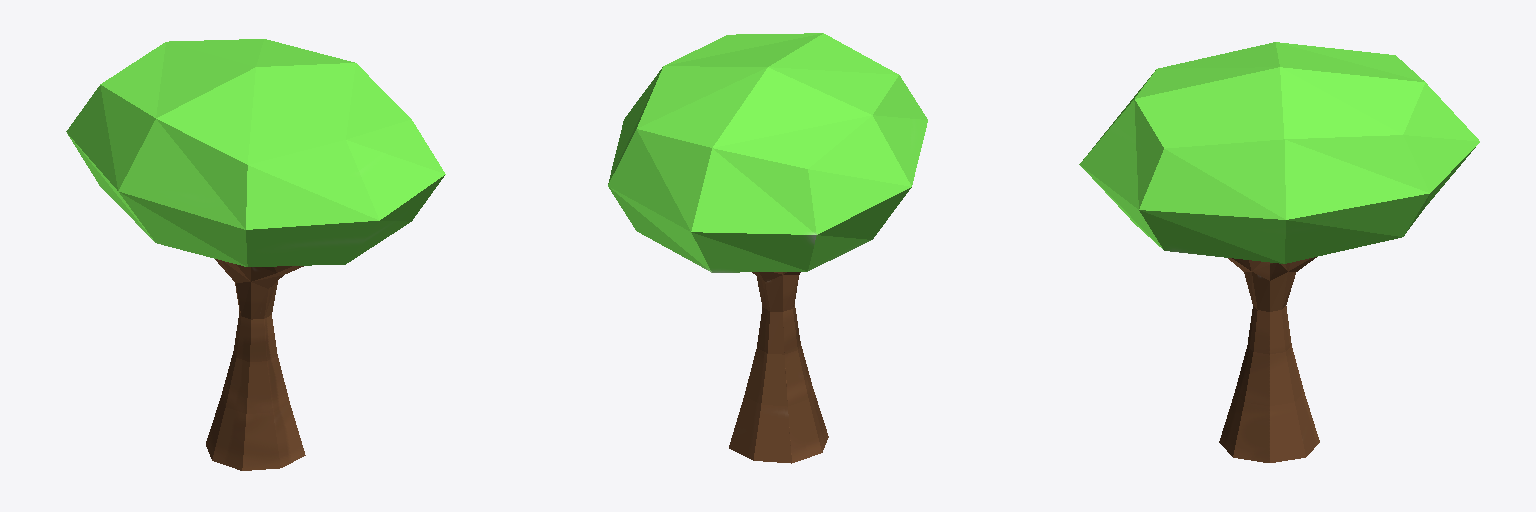
3 renders of one model, left to right at view 1: azimuth 30°, elevation 25°; view 2: azimuth 150°, elevation 25°; view 3: azimuth 270°, elevation 25°, orthographic.
Visible parts, largest first — view 1: Cube_Cube.001; view 2: Cube_Cube.001; view 3: Cube_Cube.001.
Part boxes in pixels (left/top/right/bottom): Cube_Cube.001: left=66, top=39, right=445, bottom=470; Cube_Cube.001: left=608, top=33, right=927, bottom=463; Cube_Cube.001: left=1079, top=42, right=1479, bottom=462.
Size of the model in its own units: 7.31 by 9.37 by 9.02.
Materials: 1 (1 with a texture image).